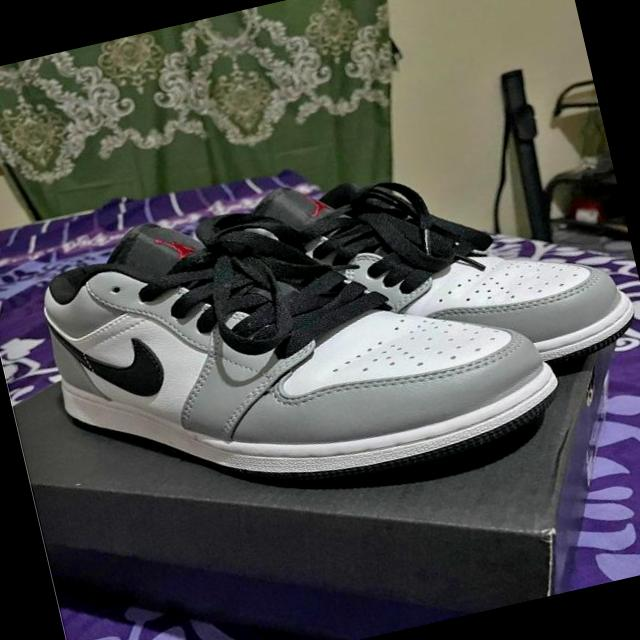nike_original_jordan: (0, 140, 579, 559), (170, 113, 640, 443)
